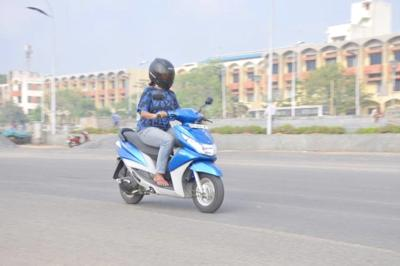With Helmet: (145, 53, 179, 90)
